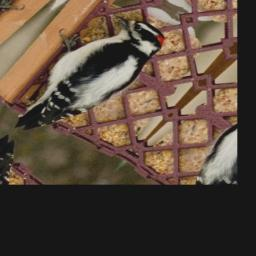Woodpecker: (0, 0, 174, 153)
